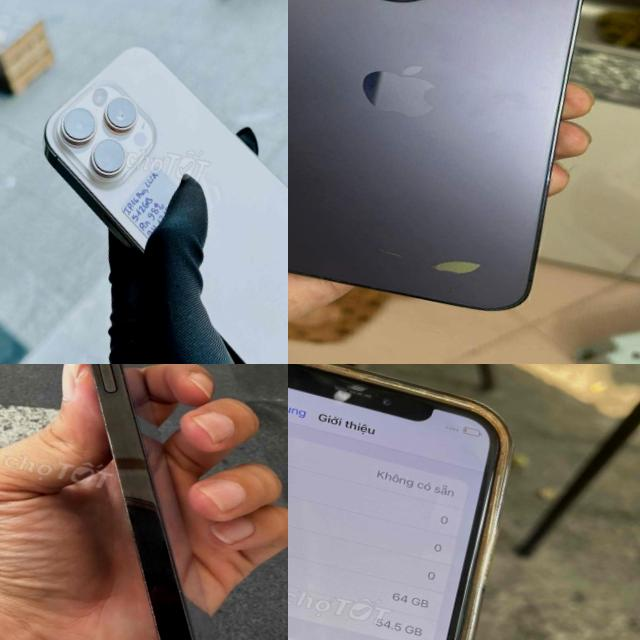gen_14: (0, 364, 288, 640)
gen_15: (288, 0, 612, 329)
gen_16: (0, 24, 288, 364)
gen_x_xs: (288, 364, 553, 640)
scratch: (424, 242, 488, 286), (324, 373, 404, 403), (364, 236, 420, 274), (478, 432, 512, 482)
